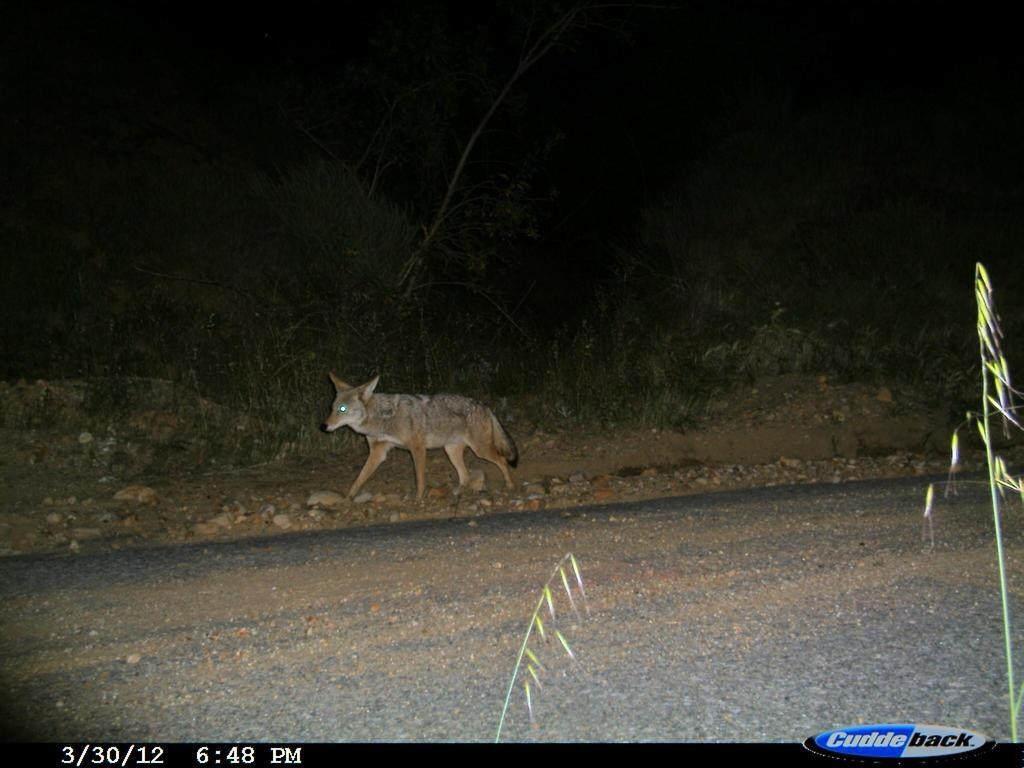coyote: (301, 367, 556, 533)
